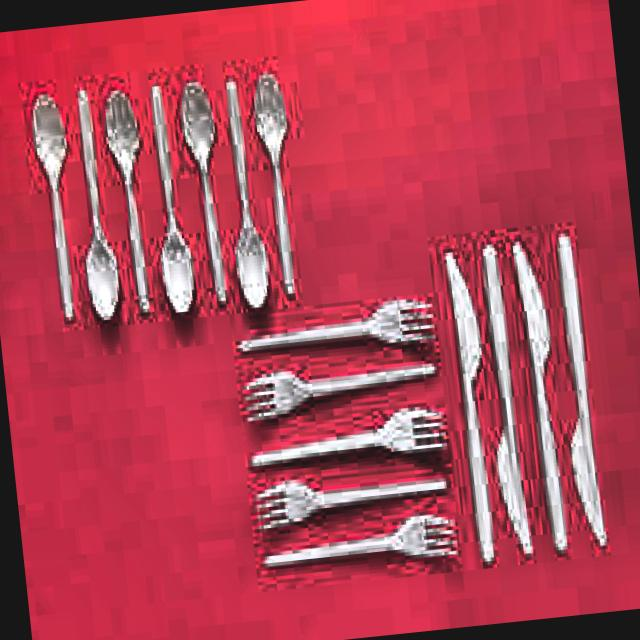plastic utensil: (559, 236, 605, 546), (243, 362, 435, 421), (251, 408, 445, 463), (255, 476, 447, 529), (264, 514, 457, 564), (152, 86, 193, 314), (106, 90, 148, 312), (239, 302, 434, 349), (182, 83, 223, 304), (32, 94, 72, 320), (78, 90, 117, 320), (228, 80, 266, 308), (254, 73, 293, 295)
